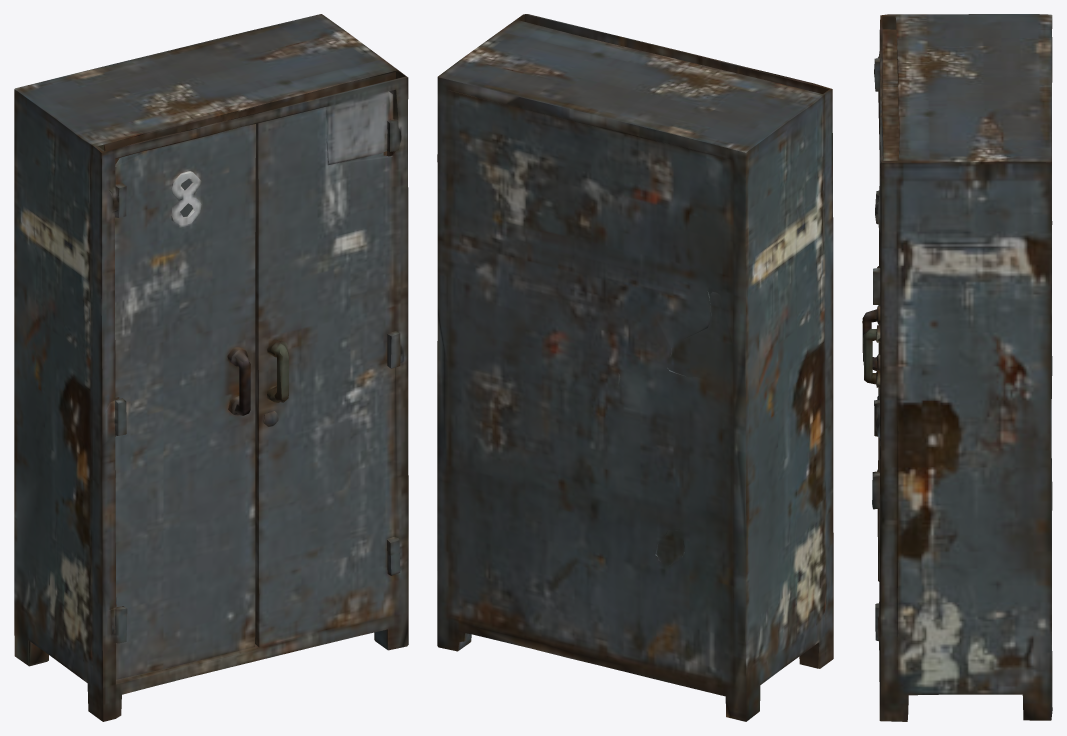
Rendered from cabinet-tall.glb.
3 views of the same model, side by side, from view 1: azimuth 30°, elevation 25°; view 2: azimuth 150°, elevation 25°; view 3: azimuth 270°, elevation 25° (orthographic).
Parts seen in each view (by area): view 1: cabinet-tall; view 2: cabinet-tall; view 3: cabinet-tall.
Boxes of the visible parts, x1,y1,x2,y2 form: cabinet-tall: (14,14,408,721); cabinet-tall: (437,14,833,721); cabinet-tall: (862,14,1052,721).
Bounding box in the file's own units: 1.08 × 1.9 × 0.5833.
1 material, 1 textured.
